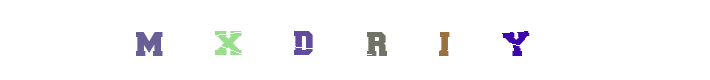D: (278, 0, 358, 80)
I: (359, 0, 439, 80)
M: (175, 0, 255, 80)
R: (316, 0, 396, 80)
X: (188, 0, 268, 80)
Y: (476, 0, 556, 80)
